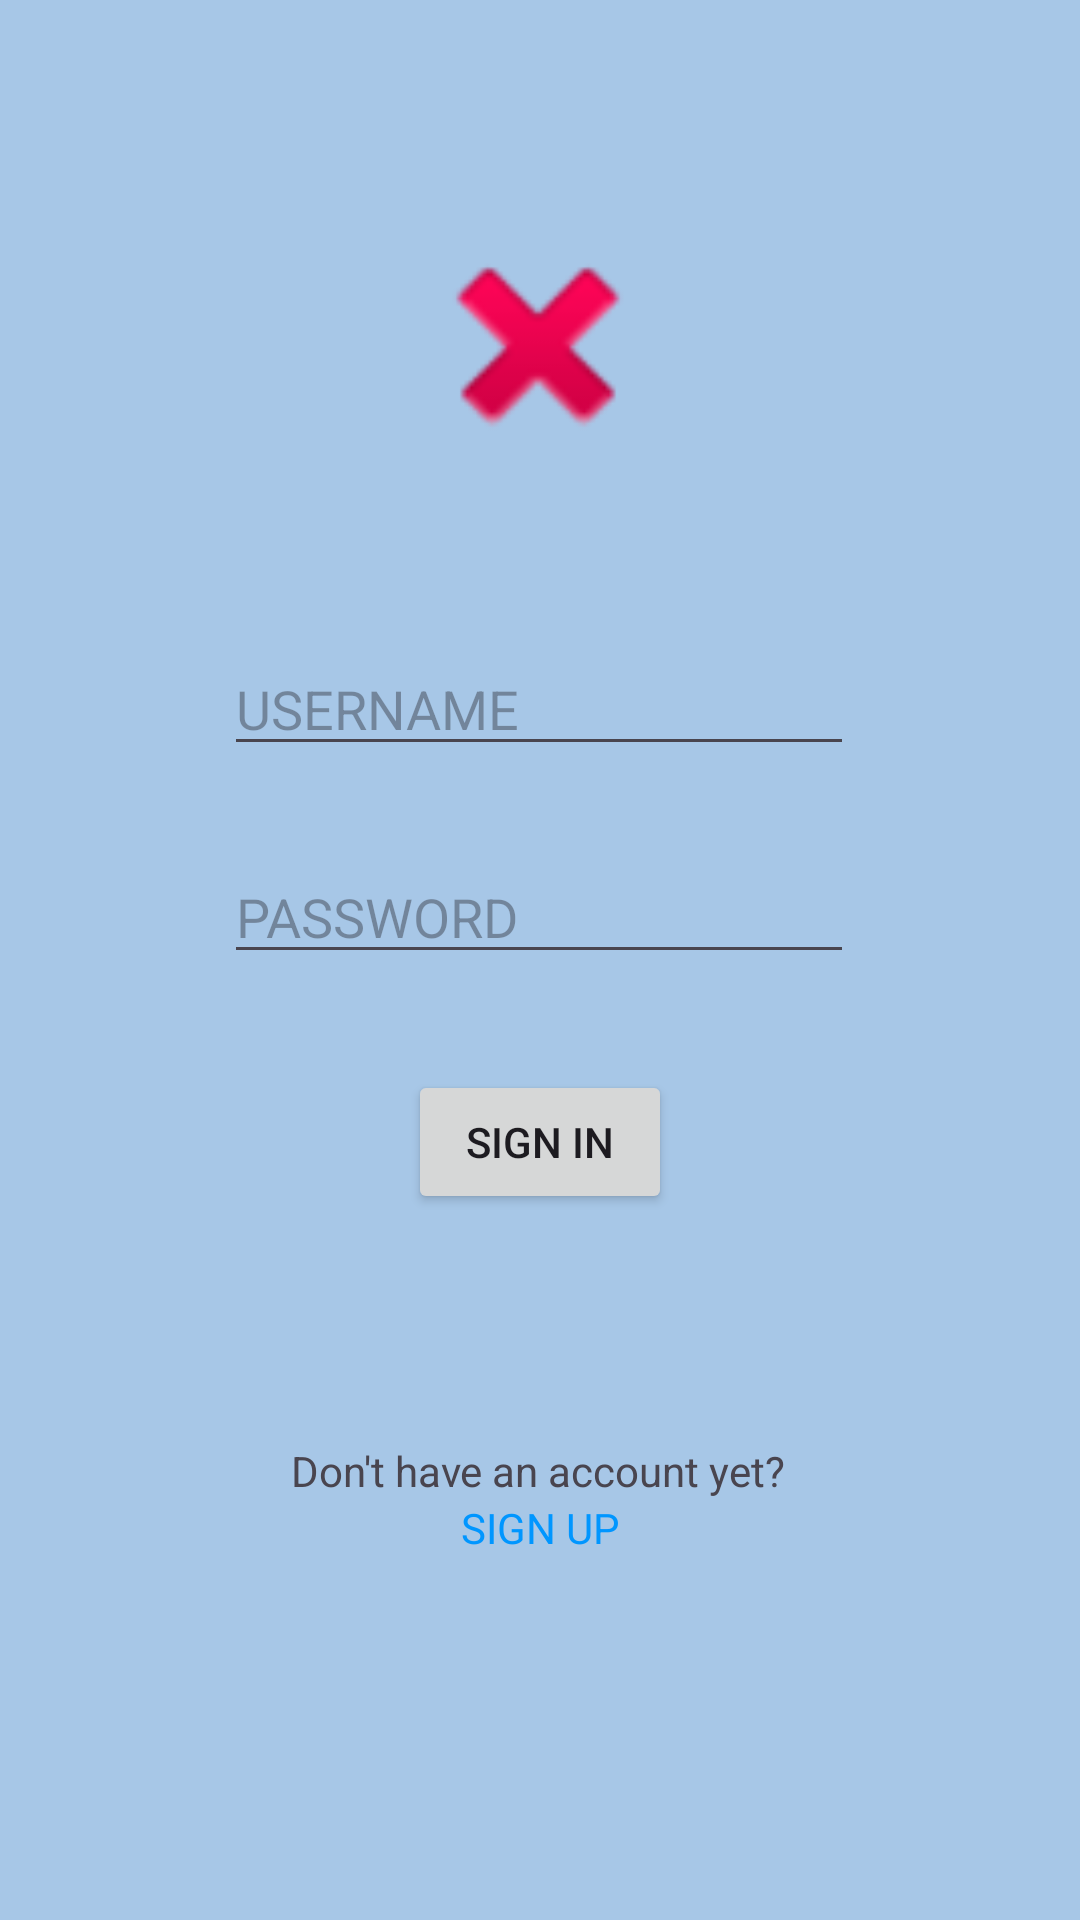

Icons on this 1080 × 1920 Android screen, each with its box as [x1,y1,x2,y2]:
delete: [456,267,620,424]
